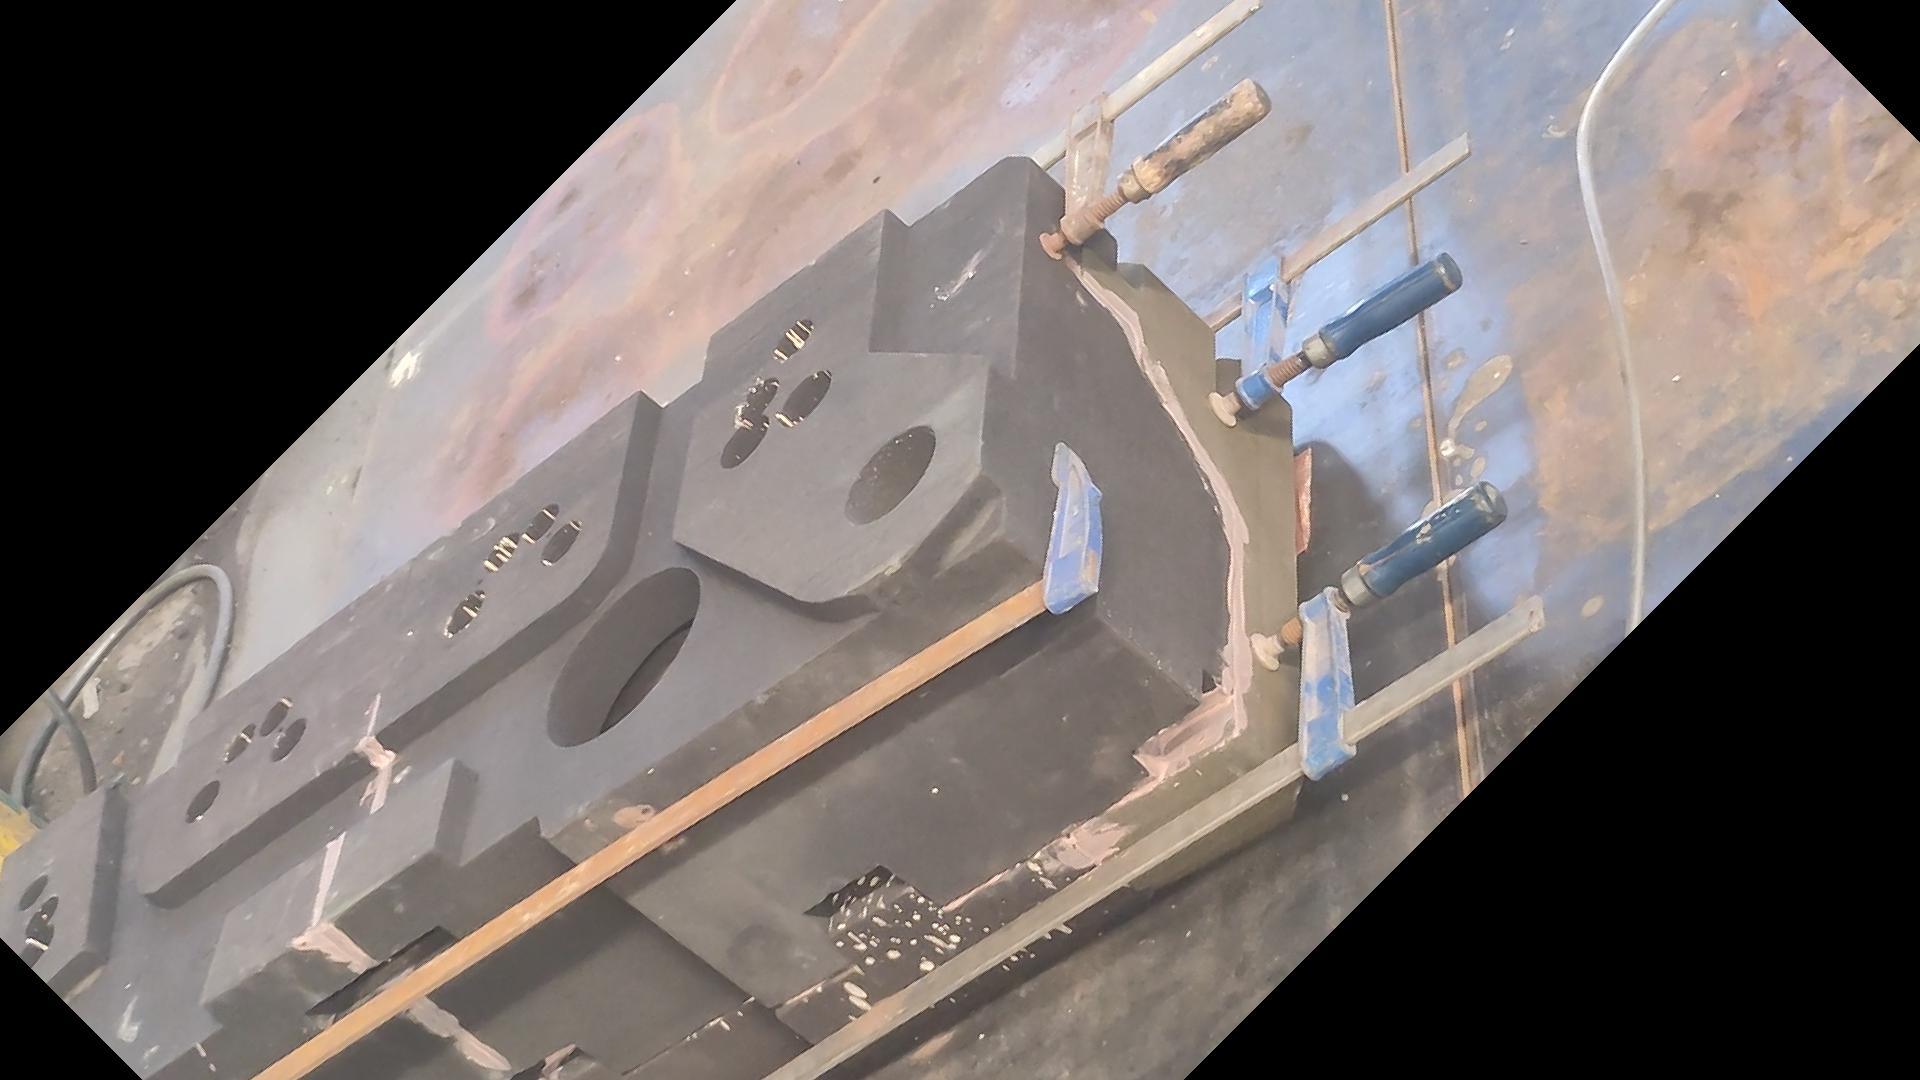pouring hole: (847, 426, 938, 527)
